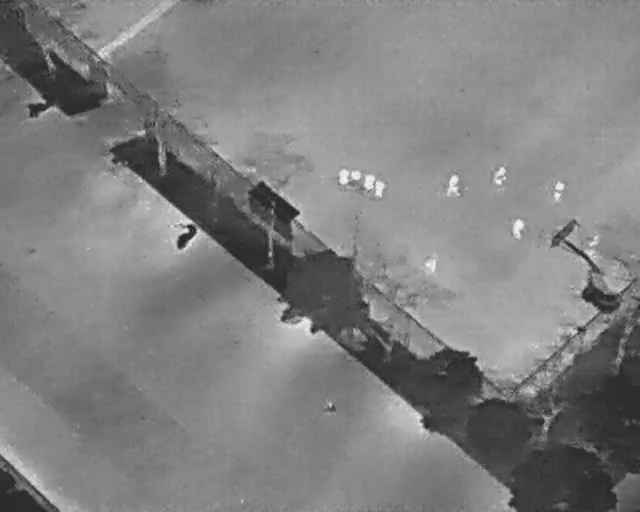Bicycle: (19, 88, 60, 121), (167, 217, 202, 255)
Person: (548, 178, 568, 203), (445, 172, 462, 200), (490, 165, 509, 187), (511, 217, 526, 242), (324, 396, 337, 416)
